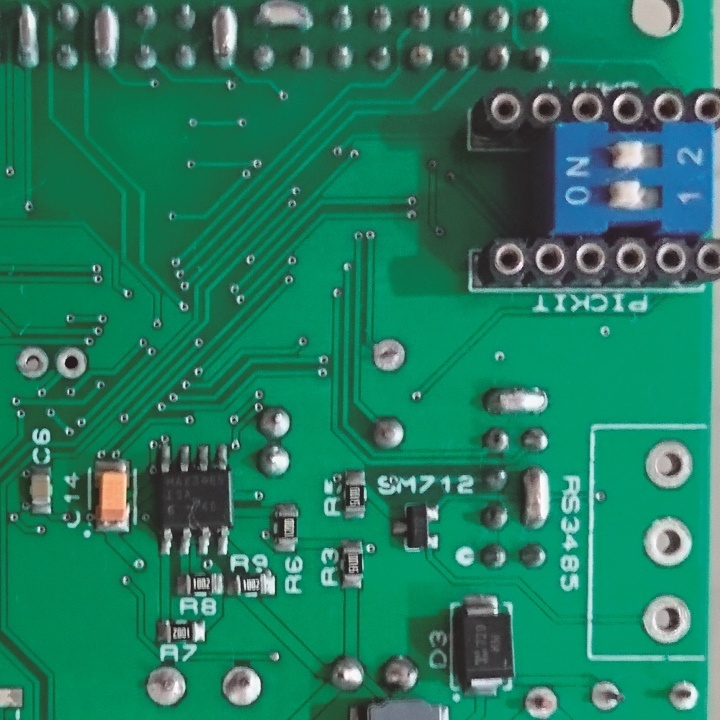F: (641, 436, 694, 493), (637, 513, 693, 566), (640, 592, 691, 648), (220, 663, 267, 710), (142, 666, 191, 709), (522, 683, 565, 720), (371, 338, 408, 375), (667, 678, 703, 713), (53, 346, 88, 380), (590, 677, 624, 711), (16, 344, 49, 379)
P: (479, 383, 555, 416), (90, 1, 121, 75), (256, 1, 317, 38), (520, 463, 552, 532), (14, 1, 42, 76), (210, 1, 237, 75)
